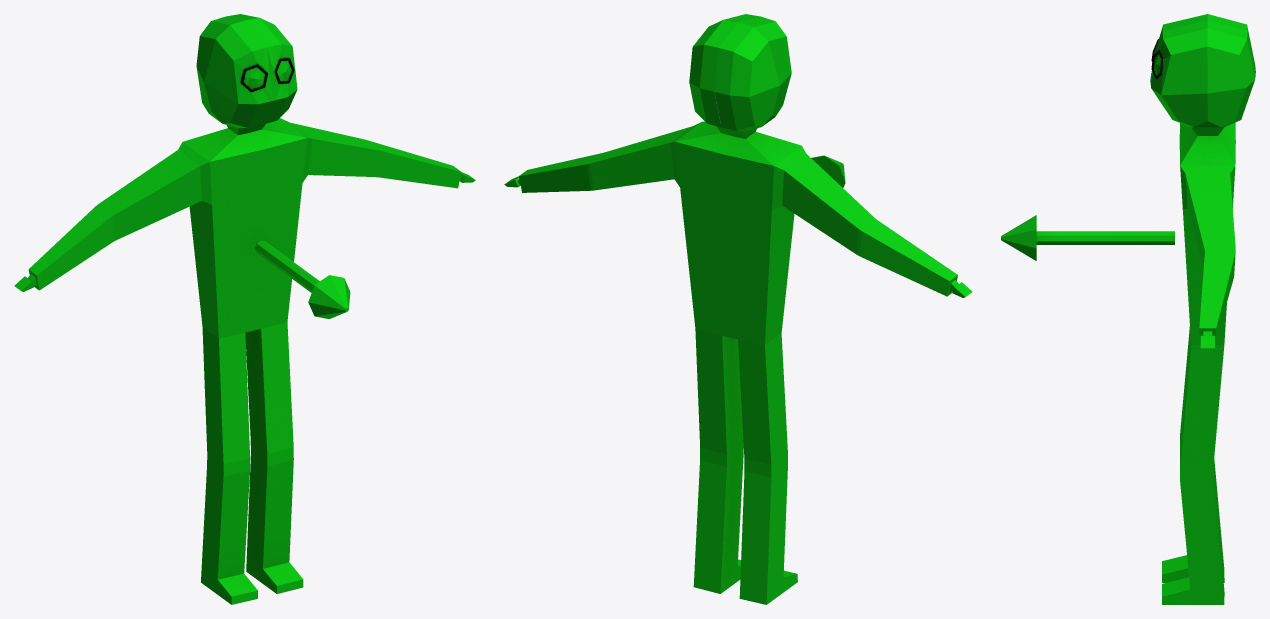
Rendered from player_start_mesh.glb.
3 renders of one model, left to right at view 1: azimuth 30°, elevation 25°; view 2: azimuth 150°, elevation 25°; view 3: azimuth 270°, elevation 25°, orthographic.
Parts seen in each view (by area): view 1: player_start_mesh; view 2: player_start_mesh; view 3: player_start_mesh.
Boxes of the visible parts, x1,y1,x2,y2 form: player_start_mesh: (14, 14, 475, 604); player_start_mesh: (504, 14, 972, 604); player_start_mesh: (1001, 14, 1255, 604).
Bounding box in the file's own units: 1.55 × 1.83 × 0.7437.
Materials: 1 (1 with a texture image).
